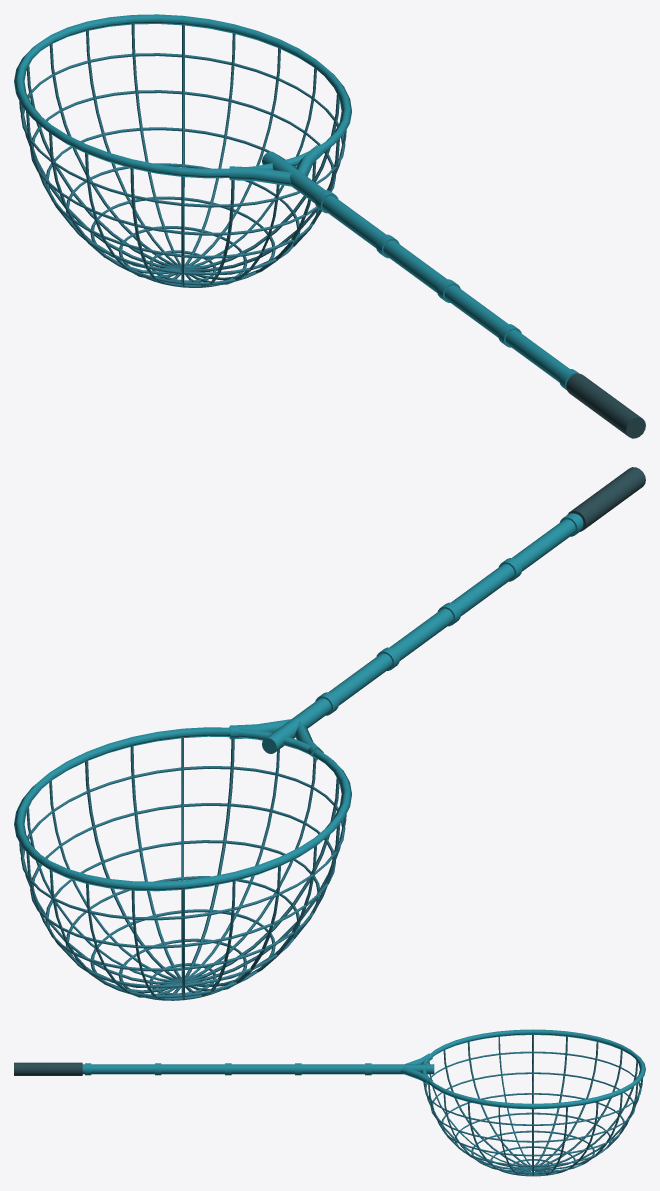
Rendered from A-NEW-20261027-SCOOP-NET-001_LOD2_R1.fbx.
3 views of the same model, one above another, from view 1: azimuth 30°, elevation 25°; view 2: azimuth 150°, elevation 25°; view 3: azimuth 270°, elevation 25° (orthographic). The views are drawn at different scales.
Parts seen in each view (by area): view 1: continuous oval hoop, continuous long handle, bag latitude 1, bag latitude 2, rounded terminal grip, bag latitude 3, bag latitude 4, bag meridian 6, bag meridian 0, bag meridian 2, bag meridian 4, bag meridian 9 (+8 smaller); view 2: continuous oval hoop, continuous long handle, bag latitude 1, bag latitude 2, bag latitude 3, rounded terminal grip, bag latitude 4, bag meridian 9, bag meridian 0, bag meridian 4, bag meridian 6, bag meridian 8 (+6 smaller); view 3: continuous long handle, continuous oval hoop, bag latitude 1, bag latitude 2, rounded terminal grip, bag latitude 3, bag latitude 4, bag meridian 6, bag meridian 7, bag meridian 3, bag meridian 2, bag meridian 8 (+8 smaller).
Part boxes in pixels (bbox=[...]): continuous oval hoop: bbox=[14, 14, 351, 178]; continuous long handle: bbox=[262, 151, 571, 382]; bag latitude 1: bbox=[20, 53, 345, 207]; bag latitude 2: bbox=[30, 90, 335, 235]; rounded terminal grip: bbox=[566, 373, 645, 438]; bag latitude 3: bbox=[45, 127, 319, 258]; bag latitude 4: bbox=[66, 163, 300, 275]; bag meridian 6: bbox=[49, 43, 316, 280]; bag meridian 0: bbox=[49, 68, 316, 274]; bag meridian 2: bbox=[130, 33, 235, 283]; bag meridian 4: bbox=[131, 23, 234, 287]; bag meridian 9: bbox=[26, 94, 339, 271]; continuous oval hoop: bbox=[14, 727, 351, 891]; continuous long handle: bbox=[262, 513, 583, 753]; bag latitude 1: bbox=[20, 766, 345, 920]; bag latitude 2: bbox=[30, 803, 335, 948]; bag latitude 3: bbox=[45, 840, 320, 971]; rounded terminal grip: bbox=[567, 467, 645, 531]; bag latitude 4: bbox=[65, 876, 300, 988]; bag meridian 9: bbox=[85, 760, 280, 990]; bag meridian 0: bbox=[49, 780, 316, 987]; bag meridian 4: bbox=[49, 758, 316, 993]; bag meridian 6: bbox=[131, 738, 234, 1000]; bag meridian 8: bbox=[130, 745, 235, 996]; continuous long handle: bbox=[82, 1064, 434, 1074]; continuous oval hoop: bbox=[420, 1029, 645, 1109]; bag latitude 1: bbox=[424, 1051, 641, 1125]; bag latitude 2: bbox=[430, 1072, 635, 1142]; rounded terminal grip: bbox=[14, 1062, 82, 1075]; bag latitude 3: bbox=[441, 1093, 624, 1156]; bag latitude 4: bbox=[455, 1112, 611, 1166]; bag meridian 6: bbox=[428, 1061, 637, 1170]; bag meridian 7: bbox=[443, 1049, 622, 1171]; bag meridian 3: bbox=[443, 1050, 622, 1171]; bag meridian 2: bbox=[467, 1041, 598, 1173]; bag meridian 8: bbox=[467, 1041, 598, 1173].
Bounding box in the file's own units: 66.2 × 42.75 × 230.
